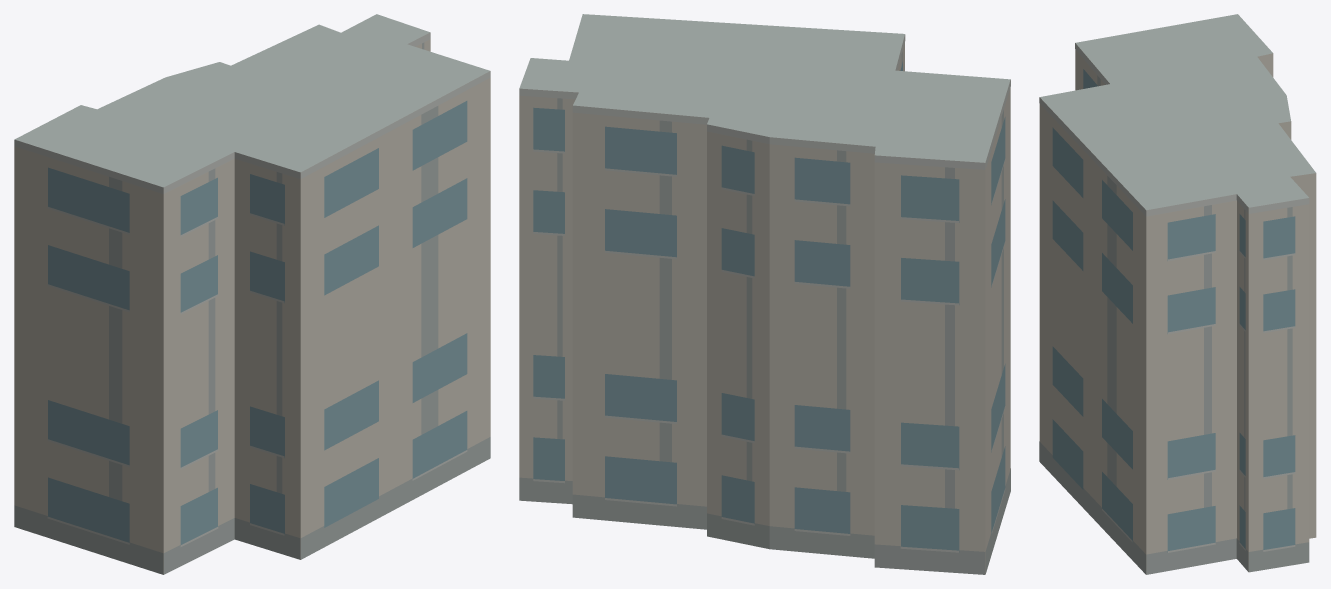
The model's file is survey-upis-32819840.glb.
3 views of the same model, side by side, from view 1: azimuth 30°, elevation 25°; view 2: azimuth 150°, elevation 25°; view 3: azimuth 270°, elevation 25° (orthographic). The views are drawn at different scales.
Visible parts, largest first — view 1: survey-upis-32819840.tmp; view 2: survey-upis-32819840.tmp; view 3: survey-upis-32819840.tmp.
Part boxes in pixels (box(x1,y1,x2,y2)): survey-upis-32819840.tmp: box(14, 14, 490, 574); survey-upis-32819840.tmp: box(519, 14, 1010, 574); survey-upis-32819840.tmp: box(1039, 14, 1316, 574).
Bounding box in the file's own units: 16.23 × 14.05 × 9.68.
